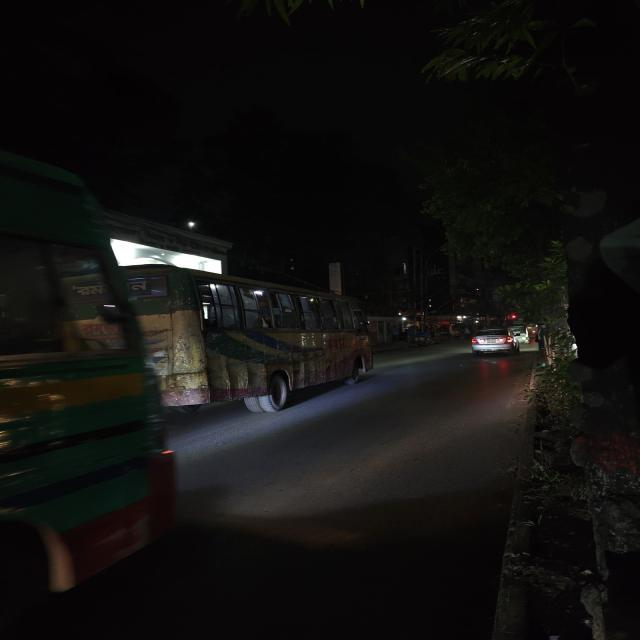bus: (117, 253, 387, 417)
car: (467, 323, 522, 361)
